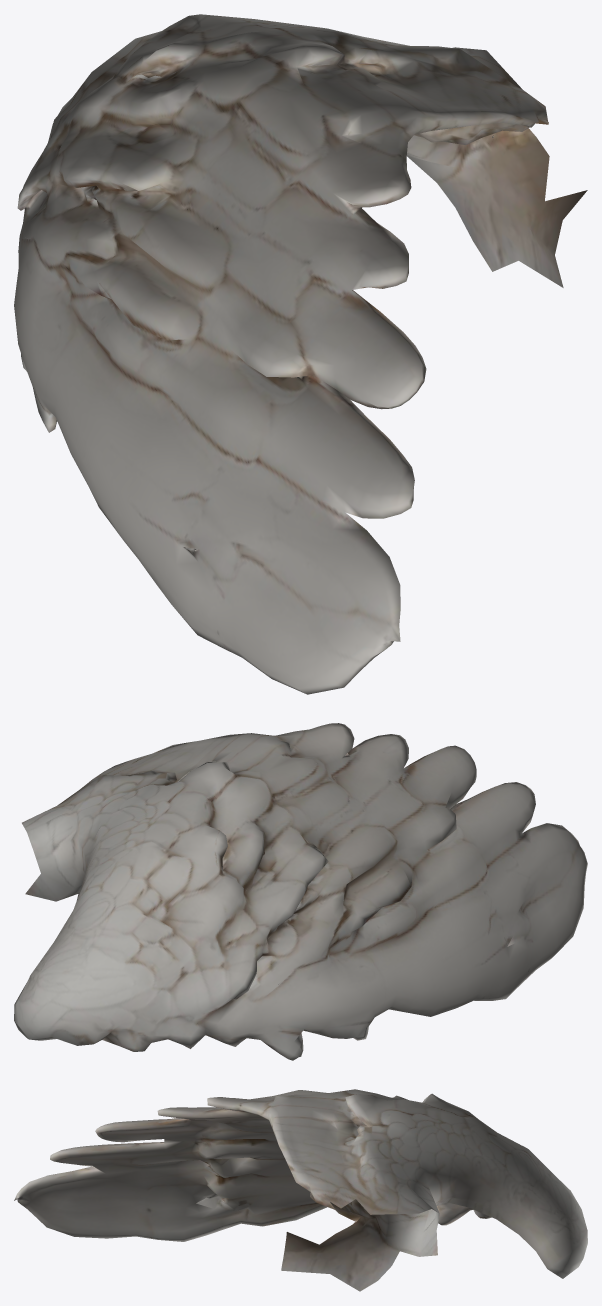
The model's file is LeftWing.obj.
The picture shows the model from 3 angles, top to bottom: view 1: azimuth 30°, elevation 25°; view 2: azimuth 150°, elevation 25°; view 3: azimuth 270°, elevation 25°; orthographic projection. The views are drawn at different scales.
Parts seen in each view (by area): view 1: Object001; view 2: Object001; view 3: Object001.
Part boxes in pixels (box(x1,y1,x2,y2)): Object001: box(14, 14, 587, 694); Object001: box(14, 723, 587, 1060); Object001: box(14, 1089, 587, 1291).
Bounding box in the file's own units: 69.71 × 51.71 × 123.
